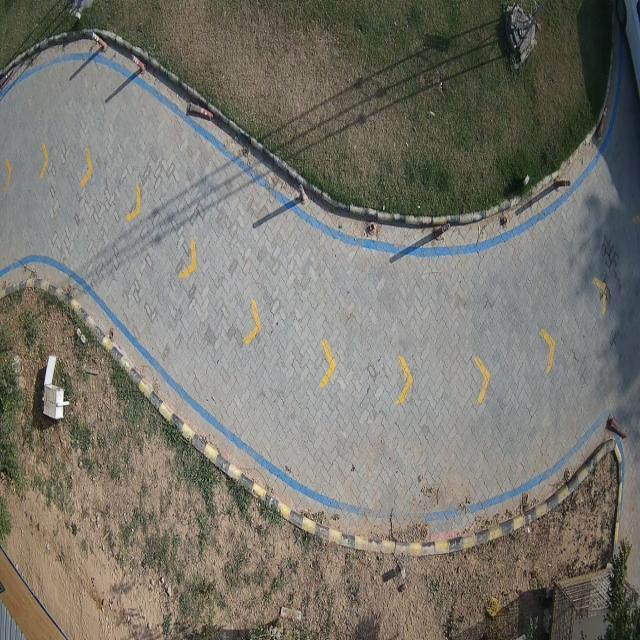car: (623, 0, 640, 94)
